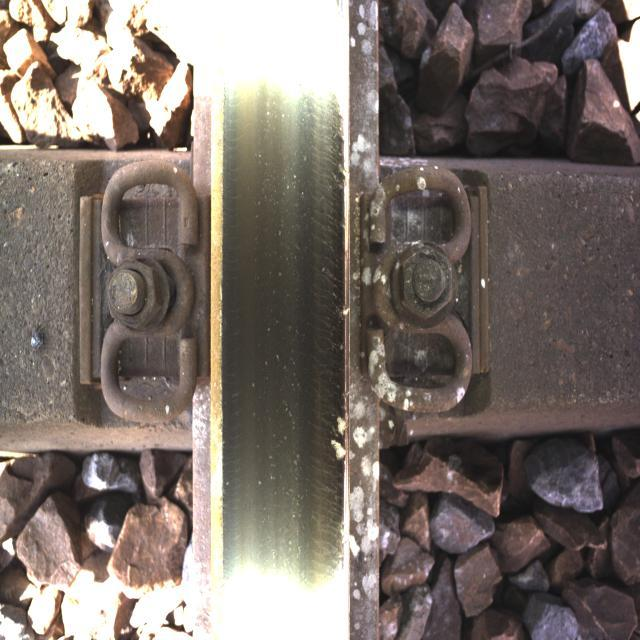scar: (286, 5, 384, 584)
